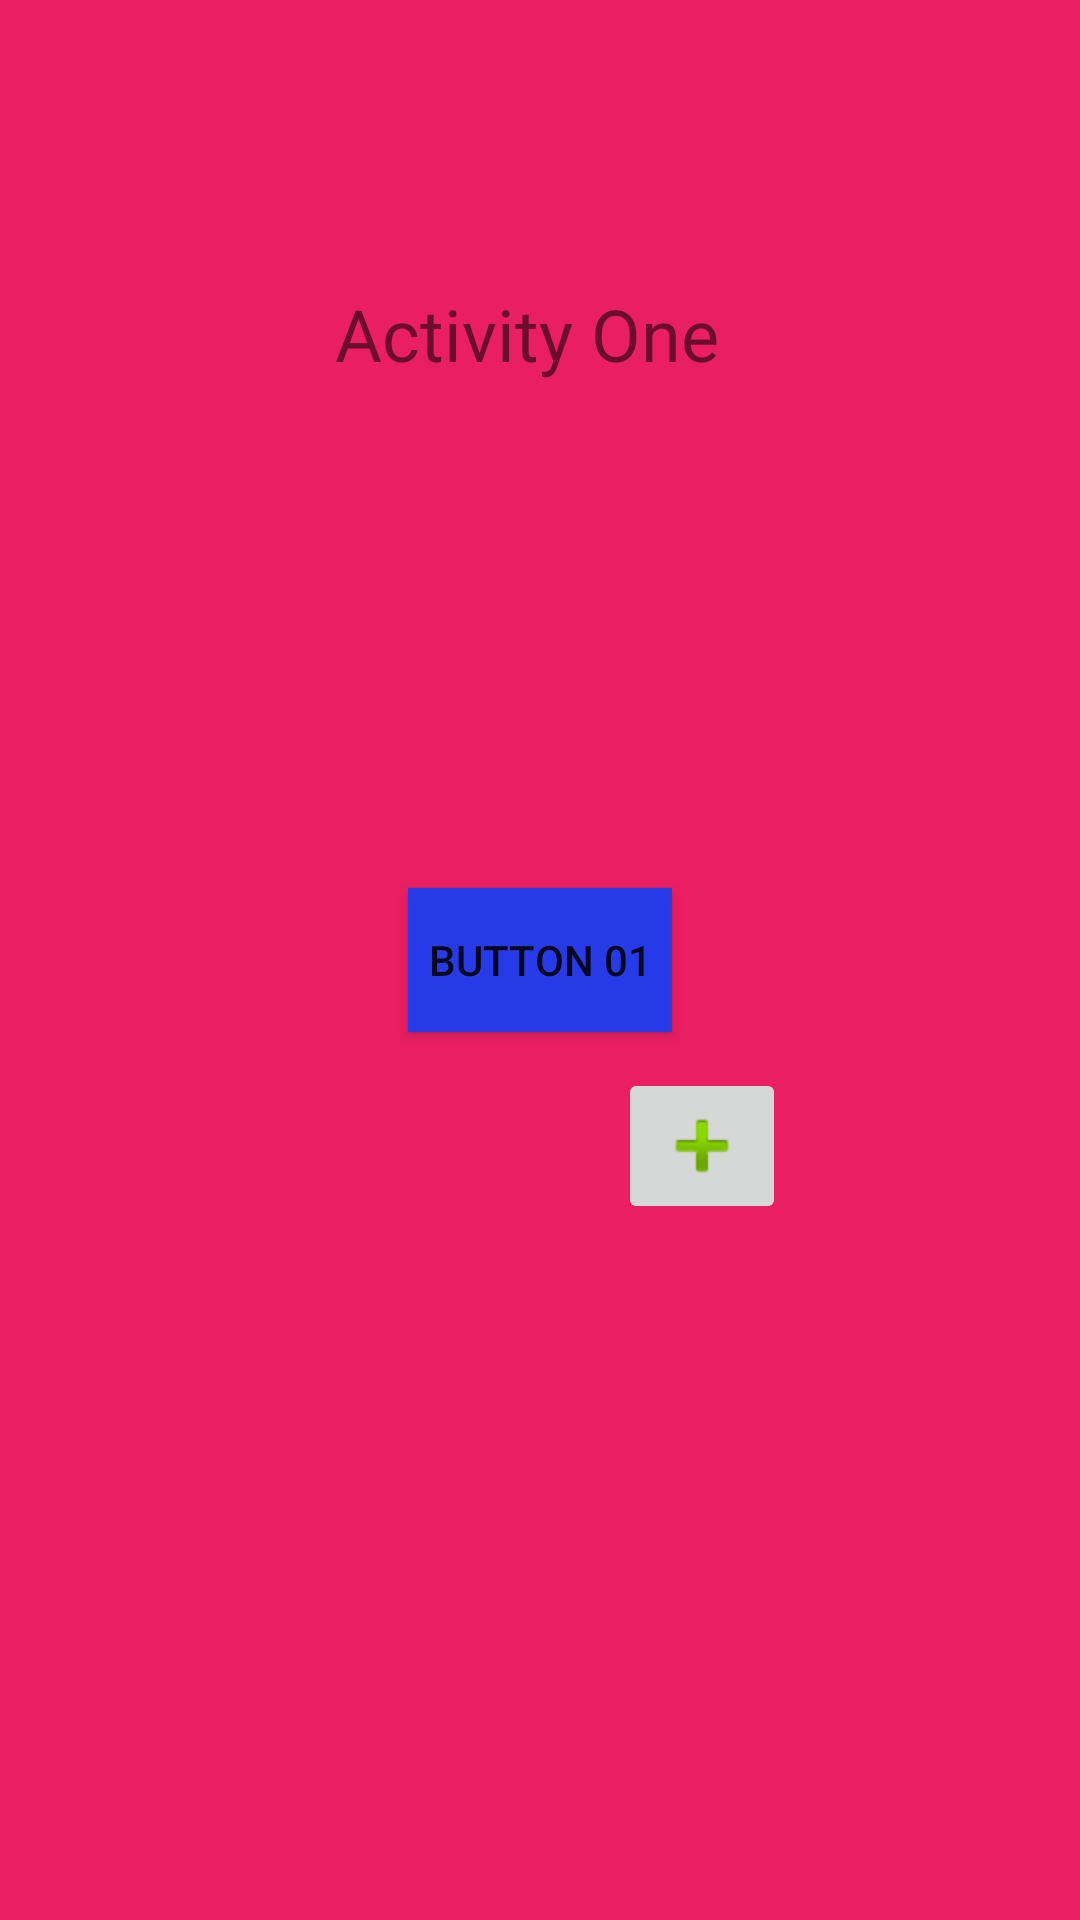

Where to tap for icons on this 1080x1920 app screen, as (x=x, y=y):
add: (x=702, y=1146)
